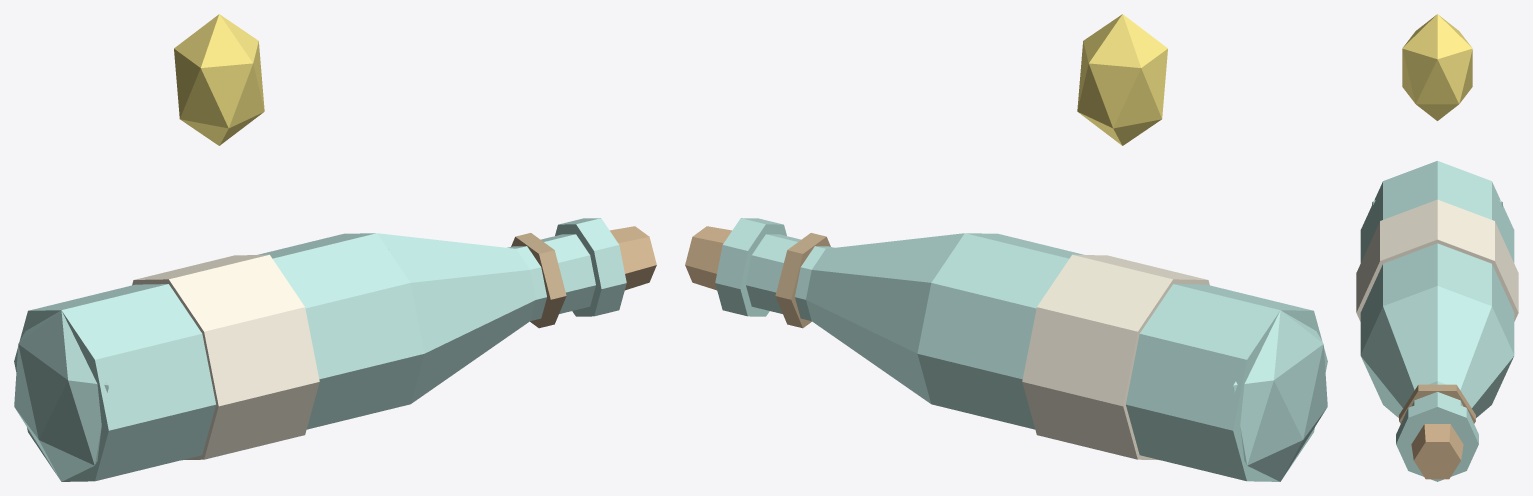
Rendered from Sea_Bottle.fbx.
3 renders of one model, left to right at view 1: azimuth 30°, elevation 25°; view 2: azimuth 150°, elevation 25°; view 3: azimuth 270°, elevation 25°, orthographic. The views are drawn at different scales.
Parts seen in each view (by area): view 1: Body, Label, Shoulder, Bottom, Gem, Lip, Neck, Rope, Cork; view 2: Body, Label, Shoulder, Bottom, Gem, Lip, Neck, Rope, Cork; view 3: Shoulder, Body, Label, Gem, Lip, Cork, Rope, Neck.
Part boxes in pixels (left/top/right/bottom): Body: left=14, top=233, right=424, bottom=481; Label: left=132, top=254, right=319, bottom=460; Shoulder: left=377, top=233, right=535, bottom=403; Bottom: left=14, top=310, right=108, bottom=481; Gem: left=174, top=14, right=264, bottom=145; Lip: left=555, top=218, right=626, bottom=316; Neck: left=507, top=234, right=595, bottom=320; Rope: left=511, top=233, right=566, bottom=328; Cork: left=610, top=226, right=656, bottom=290; Body: left=917, top=233, right=1327, bottom=481; Label: left=1022, top=254, right=1209, bottom=460; Shoulder: left=806, top=233, right=964, bottom=403; Bottom: left=1233, top=310, right=1327, bottom=481; Gem: left=1077, top=14, right=1167, bottom=145; Lip: left=715, top=218, right=786, bottom=316; Neck: left=746, top=234, right=834, bottom=320; Rope: left=775, top=233, right=830, bottom=328; Cork: left=685, top=226, right=731, bottom=290; Shoulder: left=1360, top=286, right=1514, bottom=417; Body: left=1360, top=161, right=1514, bottom=354; Label: left=1356, top=199, right=1518, bottom=321; Gem: left=1402, top=14, right=1472, bottom=120; Lip: left=1396, top=397, right=1478, bottom=481; Cork: left=1411, top=424, right=1463, bottom=479; Rope: left=1399, top=384, right=1475, bottom=423; Neck: left=1412, top=381, right=1462, bottom=406.
Size of the model in its own units: 0.9558 by 0.657 by 0.274.
